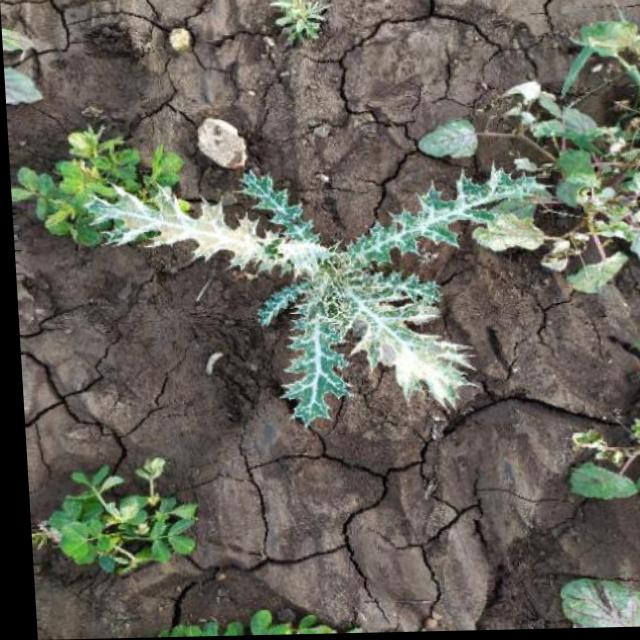weed: (13, 23, 640, 441), (30, 458, 208, 604)
